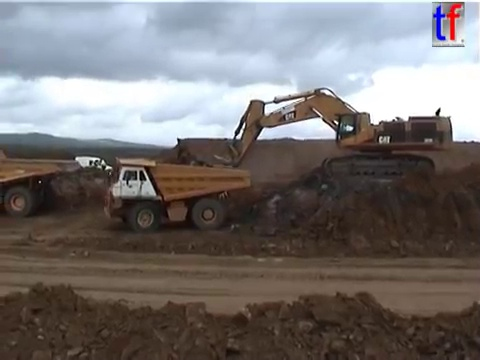excavator: (189, 85, 455, 186)
truck: (102, 154, 251, 233), (1, 148, 83, 219)
worker: (98, 156, 107, 176), (91, 156, 99, 173)
